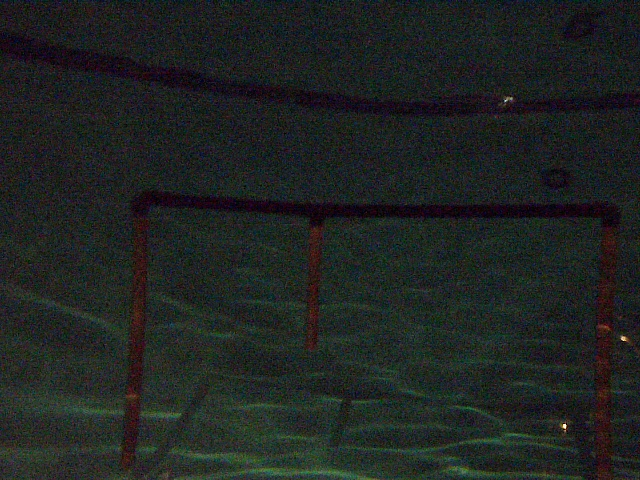Gate: (110, 210, 155, 479), (591, 215, 623, 480), (297, 216, 326, 350)
